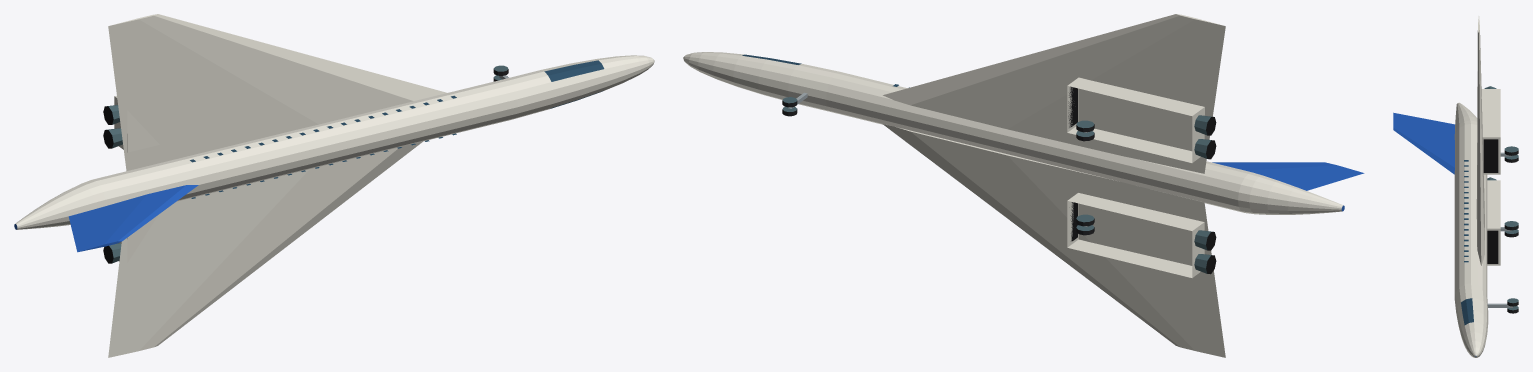
3 renders of one model, left to right at view 1: azimuth 30°, elevation 25°; view 2: azimuth 150°, elevation 25°; view 3: azimuth 270°, elevation 25°, orthographic. The views are drawn at different scales.
Visible parts, largest first — view 1: default_wing1, default_fuselage, default_wing-1, default_fin1, default_nacelle1; view 2: default_wing1, default_wing-1, default_fuselage, default_nacelle-1, default_nacelle1, default_fin1; view 3: default_fuselage, default_fin1, default_wing1, default_nacelle1, default_nacelle-1, default_intake1, default_intake-1, default_windows1, default_main1_wheel0.17, default_main-1_wheel0.17.
Boxes of the visible parts, x1,y1,x2,y2 form: default_wing1: (108, 14, 446, 171); default_fuselage: (14, 55, 654, 229); default_wing-1: (108, 141, 422, 357); default_fin1: (68, 185, 198, 252); default_nacelle1: (114, 95, 159, 152); default_wing1: (883, 14, 1225, 173); default_wing-1: (883, 124, 1225, 357); default_fuselage: (683, 52, 1344, 214); default_nacelle-1: (1067, 193, 1204, 277); default_nacelle1: (1067, 77, 1204, 162); default_fin1: (1212, 162, 1364, 190); default_fuselage: (1454, 102, 1488, 357); default_fin1: (1393, 112, 1455, 174); default_wing1: (1476, 16, 1484, 265); default_nacelle1: (1481, 89, 1500, 174); default_nacelle-1: (1487, 180, 1500, 265); default_intake1: (1483, 139, 1498, 172); default_intake-1: (1487, 230, 1498, 263); default_windows1: (1464, 160, 1468, 262); default_main1_wheel0.17: (1504, 146, 1518, 155); default_main-1_wheel0.17: (1504, 221, 1518, 230).
Bounding box in the file's own units: 26 × 12.7 × 5.49.
